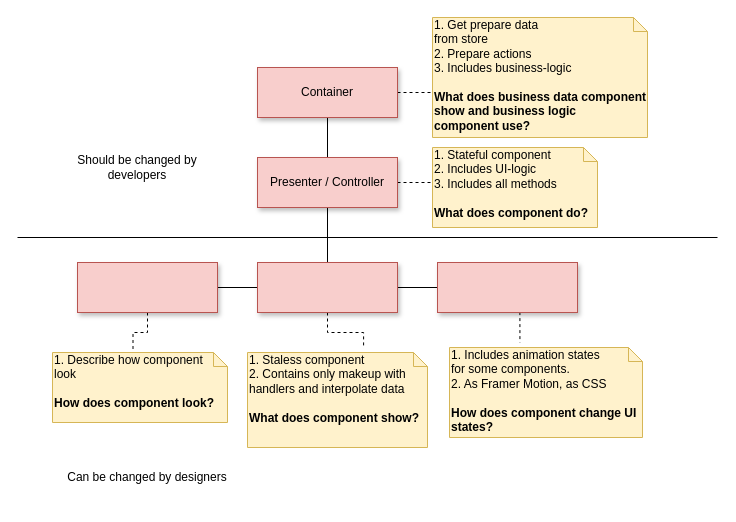
Some shapes in this 736 by 522 pixel diagram are drawn without their labels. The centre of each missing label's shape, as x and y in pixels:
Animations: (508,289)
Styles: (148,289)
View: (328,289)
